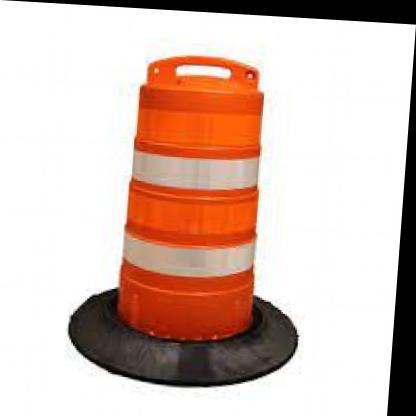obstacle: (116, 45, 281, 346)
